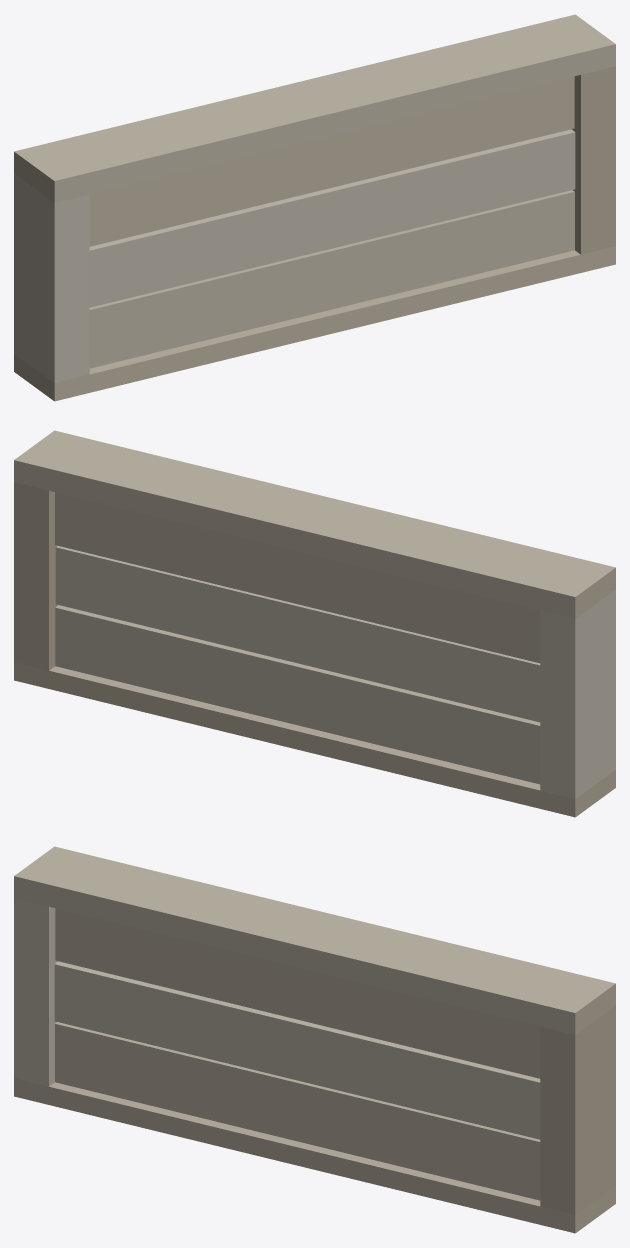
Rendered from HalfWall8.glb.
3 views of the same model, one above another, from view 1: azimuth 30°, elevation 25°; view 2: azimuth 150°, elevation 25°; view 3: azimuth 330°, elevation 25° (orthographic).
Parts seen in each view (by area): view 1: Wood; view 2: Wood; view 3: Wood.
Boxes of the visible parts, x1,y1,x2,y2 form: Wood: (14,14,615,401); Wood: (14,430,615,817); Wood: (14,846,615,1233).
Size of what is drawn, in the model's own units: 8 by 3 by 1.
